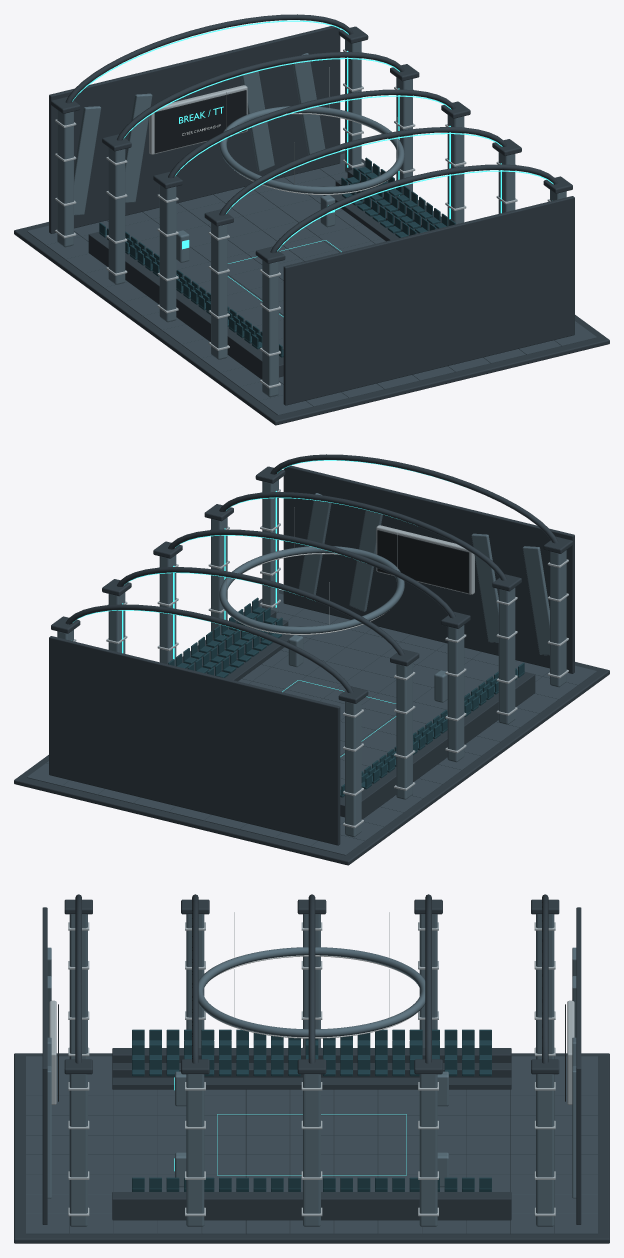
File: cyber-arena.glb
The picture shows the model from 3 angles, top to bottom: view 1: azimuth 30°, elevation 25°; view 2: azimuth 150°, elevation 25°; view 3: azimuth 270°, elevation 25°; orthographic projection. The views are drawn at different scales.
Visible parts, largest first — view 1: CyberArena_Graphite powder coat.005, CyberArena_Titanium facade panels.001, CyberArena_Ceramic slate flooring.001, CyberArena_Midnight seating fabric.001, CyberArena_Black traction rubber.005, CyberArena_Cyan optical light.005, CyberArena_Satin anodized aluminum.005; view 2: CyberArena_Graphite powder coat.005, CyberArena_Titanium facade panels.001, CyberArena_Ceramic slate flooring.001, CyberArena_Midnight seating fabric.001, CyberArena_Black traction rubber.005, CyberArena_Satin anodized aluminum.005, CyberArena_Cyan optical light.005; view 3: CyberArena_Ceramic slate flooring.001, CyberArena_Graphite powder coat.005, CyberArena_Titanium facade panels.001, CyberArena_Midnight seating fabric.001, CyberArena_Satin anodized aluminum.005, CyberArena_Warm ivory polymer.005, CyberArena_Cyan optical light.005.
Part boxes in pixels (<box>): CyberArena_Graphite powder coat.005: <box>14,14,609,425</box>; CyberArena_Titanium facade panels.001: <box>57,40,566,397</box>; CyberArena_Ceramic slate flooring.001: <box>27,153,596,415</box>; CyberArena_Midnight seating fabric.001: <box>99,157,455,357</box>; CyberArena_Black traction rubber.005: <box>154,90,246,153</box>; CyberArena_Cyan optical light.005: <box>72,20,553,316</box>; CyberArena_Satin anodized aluminum.005: <box>55,49,550,388</box>; CyberArena_Graphite powder coat.005: <box>14,454,609,865</box>; CyberArena_Titanium facade panels.001: <box>57,480,566,837</box>; CyberArena_Ceramic slate flooring.001: <box>27,593,596,855</box>; CyberArena_Midnight seating fabric.001: <box>168,597,524,797</box>; CyberArena_Black traction rubber.005: <box>377,530,469,593</box>; CyberArena_Satin anodized aluminum.005: <box>73,489,568,828</box>; CyberArena_Cyan optical light.005: <box>73,460,448,756</box>; CyberArena_Ceramic slate flooring.001: <box>26,1056,597,1234</box>; CyberArena_Graphite powder coat.005: <box>14,894,609,1243</box>; CyberArena_Titanium facade panels.001: <box>47,914,576,1226</box>; CyberArena_Midnight seating fabric.001: <box>132,1029,491,1191</box>; CyberArena_Satin anodized aluminum.005: <box>49,912,574,1216</box>; CyberArena_Warm ivory polymer.005: <box>210,955,413,1038</box>; CyberArena_Cyan optical light.005: <box>174,1077,406,1175</box>.
Size of the model in its own units: 17 by 9.14 by 23.
